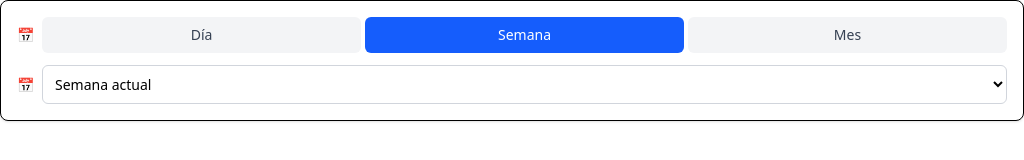
Test: CompactFilters › shows date input when day period is selected
This screenshot has width=1024, height=160.
Click the button "Día": [202, 35] box [42,17,361,53]
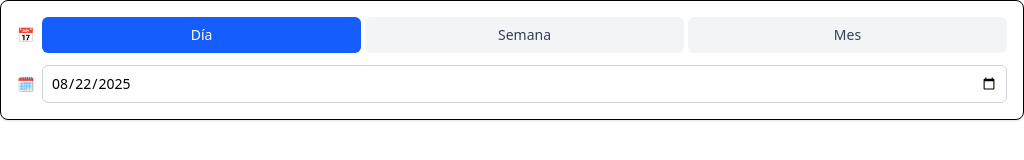
Expected: the date field showing "2025-08-22" is shown, [42,65,1007,103]
